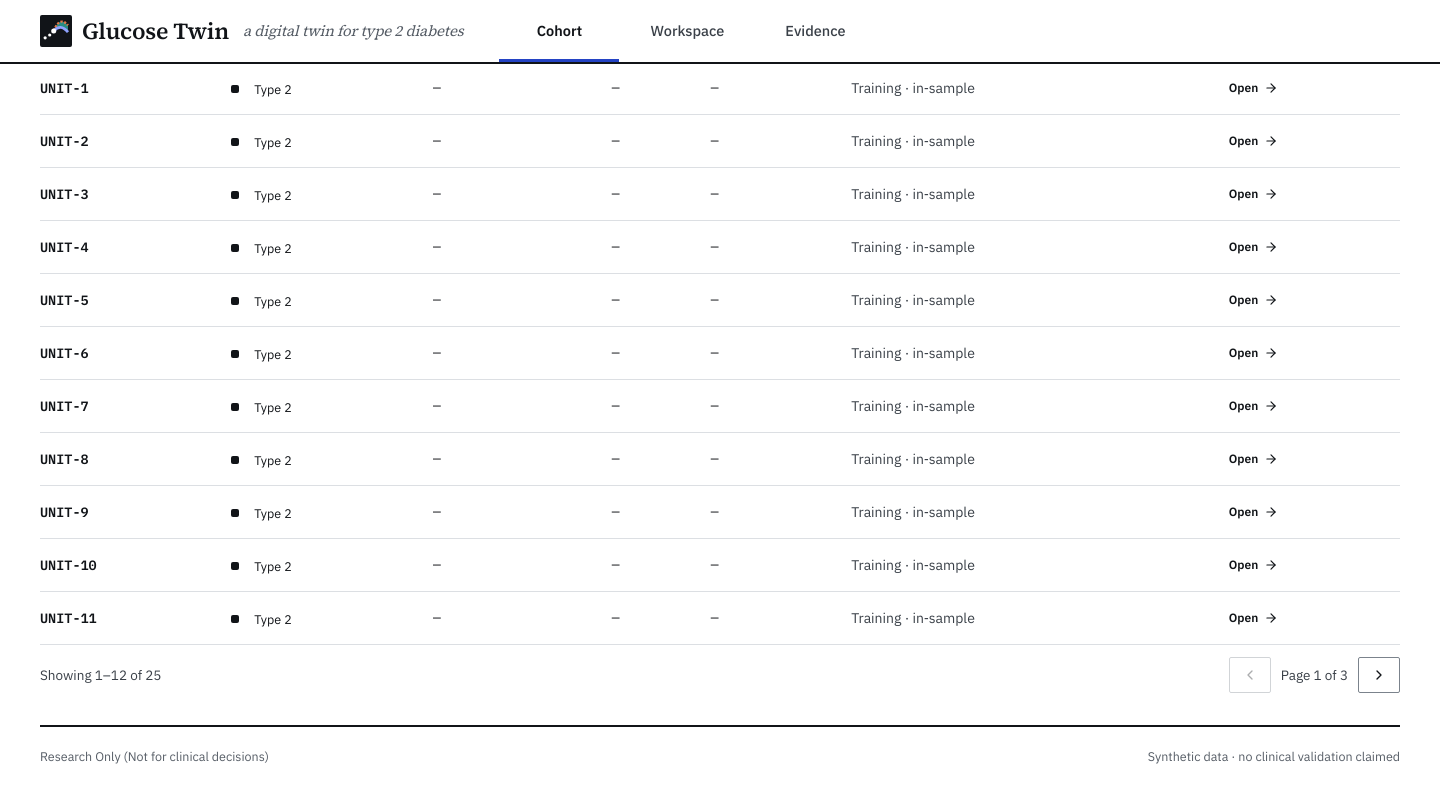
Test: Cohort directory and Workspace entry › paginates returned subjects and resets to the first result when filtering
(page scrolled)
Expected: the button named "Previous page" is disabled, left=1229, top=657, right=1271, bottom=693
Click the button named "Next page" at (1379, 675), box left=1358, top=657, right=1400, bottom=693
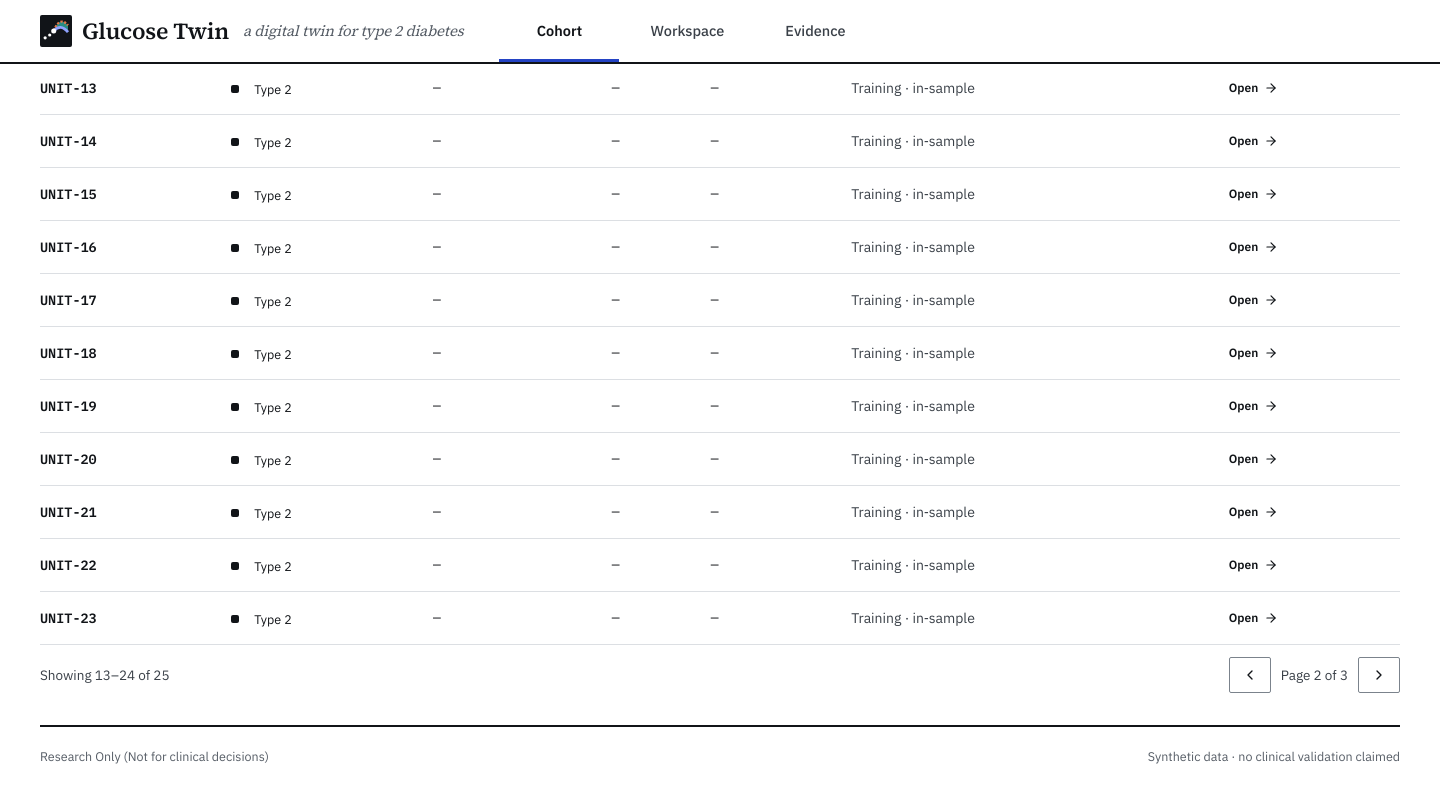
Click the button named "Next page" at (1379, 675), box left=1358, top=657, right=1400, bottom=693
(page scrolled)
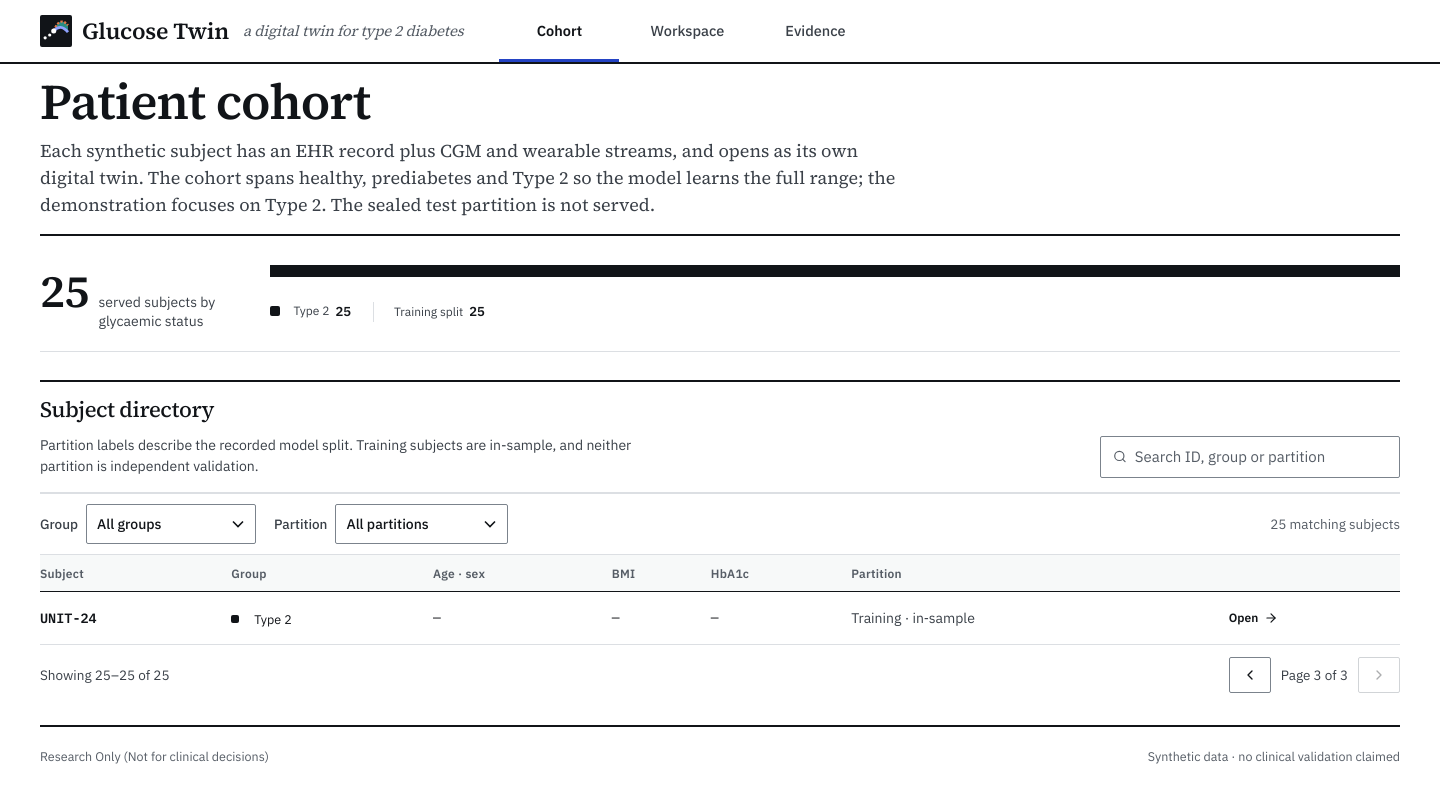
Type "UNIT-0" into the search field at (1261, 457), box left=1135, top=437, right=1387, bottom=477
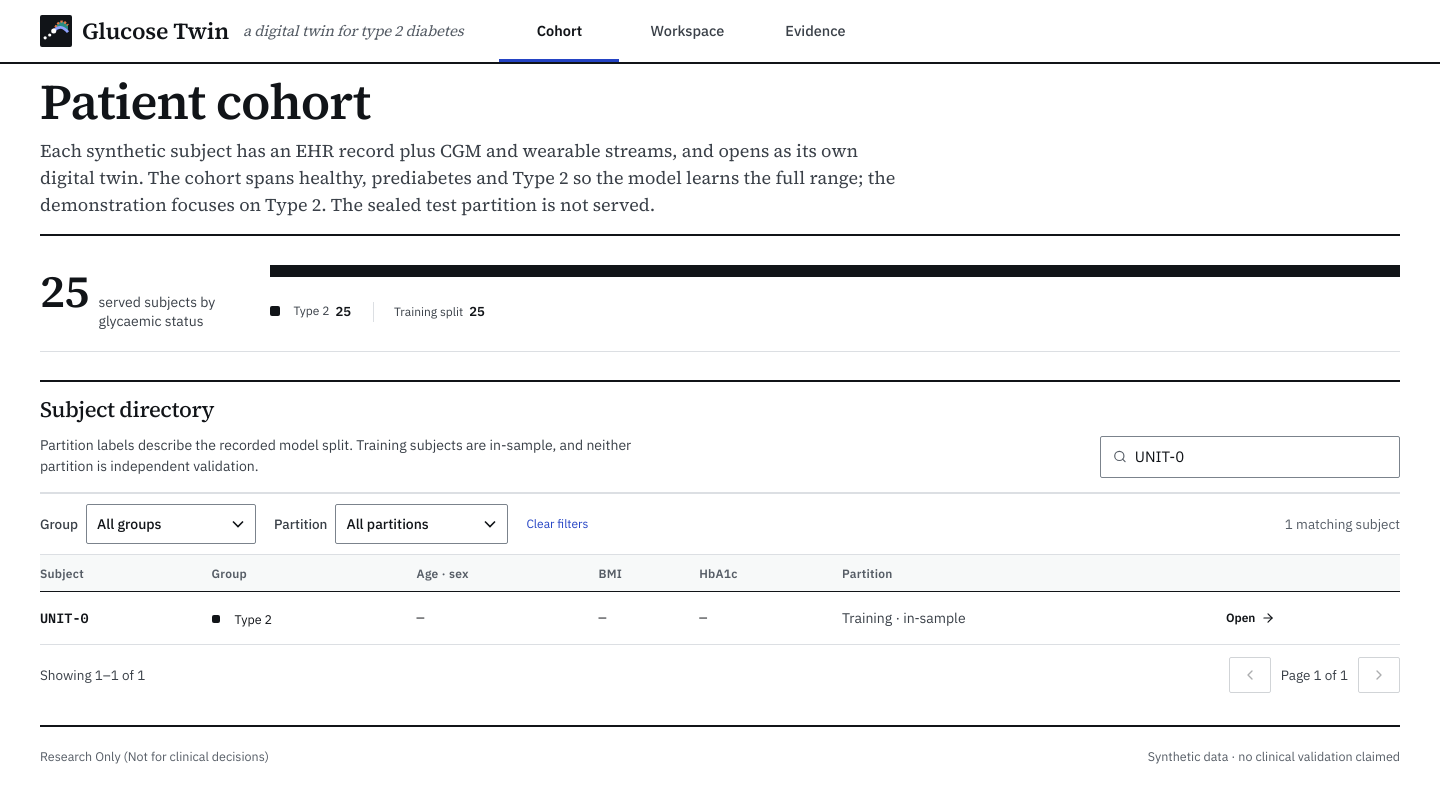
Now the link with aria-label "Open subject UNIT-0" is shown, box left=1226, top=610, right=1275, bottom=625
Now the text "Page 1 of 1" is shown, box left=1281, top=665, right=1348, bottom=685
